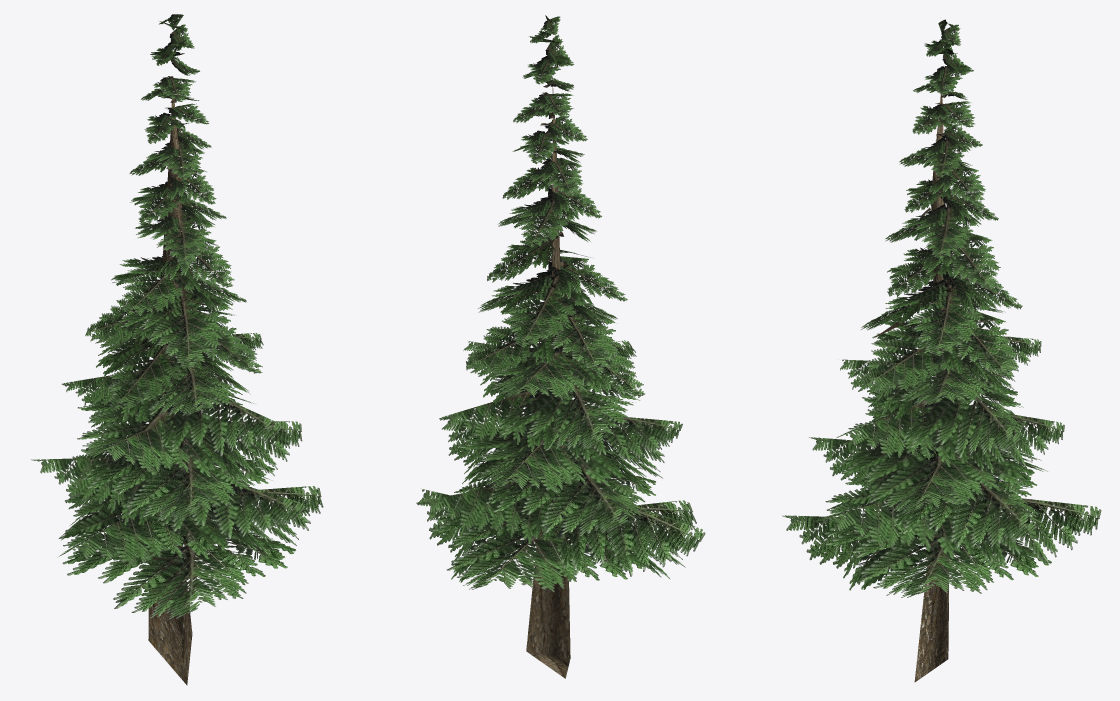
File: forest_PineTree1_LOD1.fbx
The picture shows the model from 3 angles, left to right: view 1: azimuth 30°, elevation 25°; view 2: azimuth 150°, elevation 25°; view 3: azimuth 270°, elevation 25°; orthographic projection.
Parts seen in each view (by area): view 1: RHE_SpruceA_Leaves_lod1; view 2: RHE_SpruceA_Leaves_lod1; view 3: RHE_SpruceA_Leaves_lod1.
Boxes of the visible parts, x1=… form: RHE_SpruceA_Leaves_lod1: x1=31, y1=14, x2=323, y2=685; RHE_SpruceA_Leaves_lod1: x1=416, y1=15, x2=705, y2=678; RHE_SpruceA_Leaves_lod1: x1=782, y1=19, x2=1101, y2=682.
Bounding box in the file's own units: 11.06 × 24.67 × 11.34.
